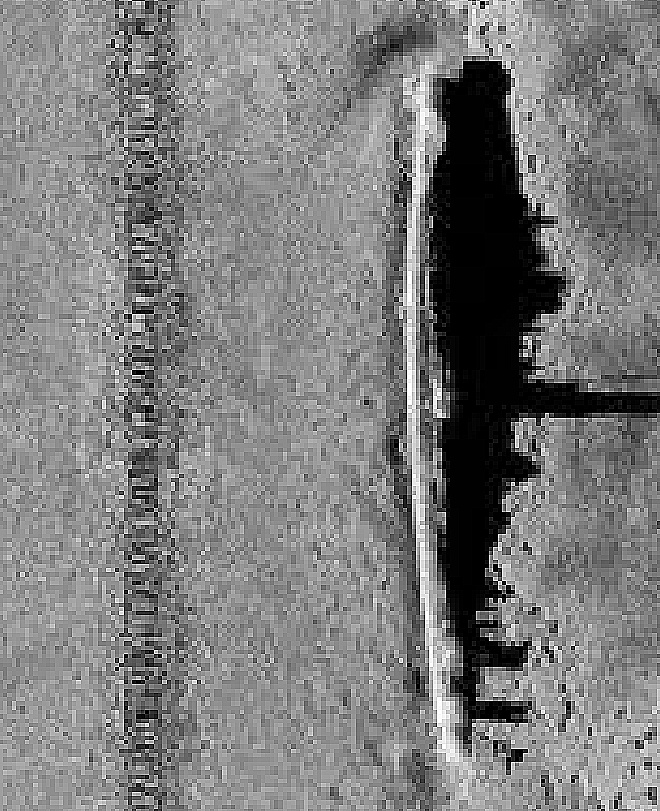ship: (396, 74, 493, 778)
